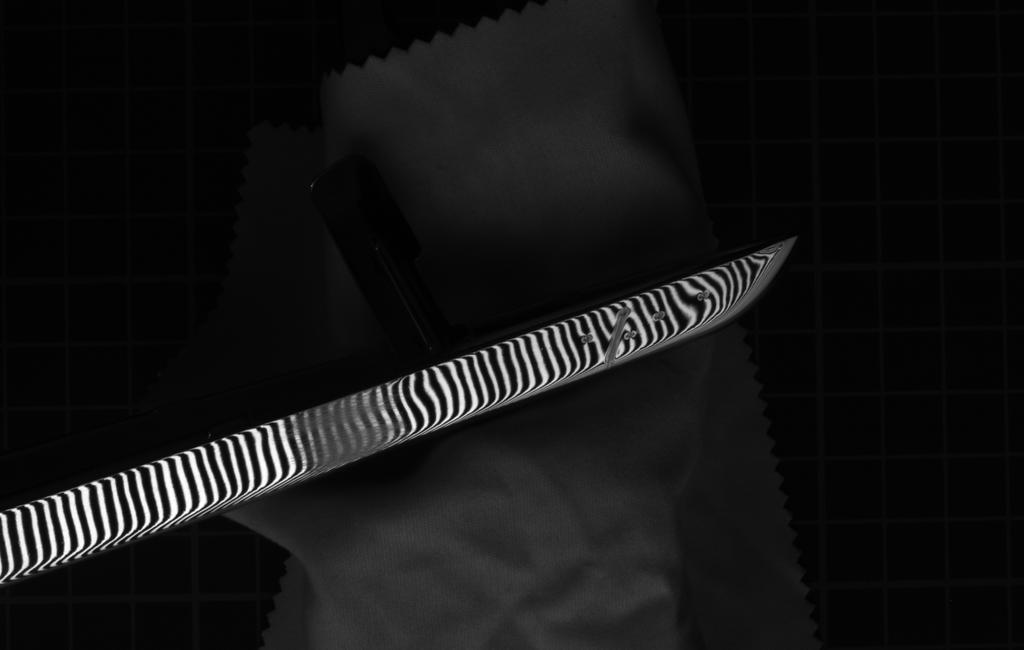Pierced: (620, 325, 641, 348), (691, 285, 715, 304), (649, 307, 671, 327), (579, 331, 595, 350)
Pitting: (286, 368, 415, 488)
Scratch: (596, 301, 634, 372)
